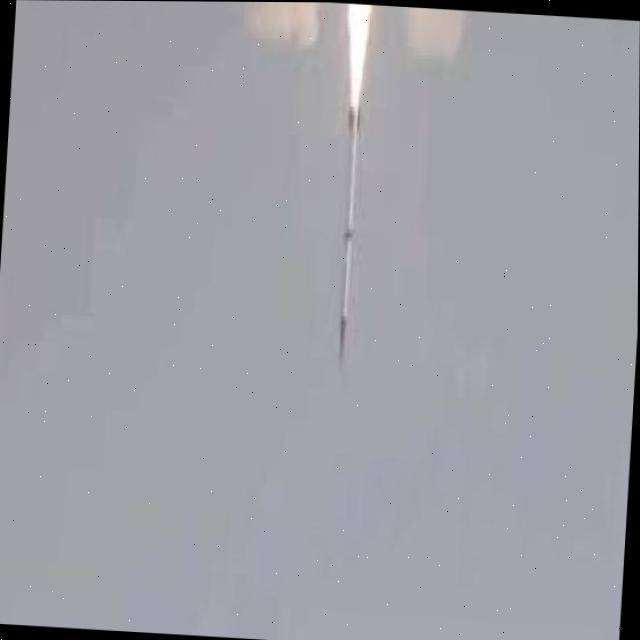missile: (325, 91, 371, 380)
